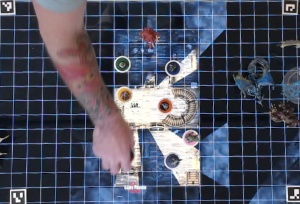blue: (163, 57, 179, 75)
green: (114, 54, 132, 72)
orange: (155, 97, 174, 113)
pink: (180, 128, 199, 146)
violet: (163, 152, 181, 170)
yellow: (117, 84, 133, 102)
